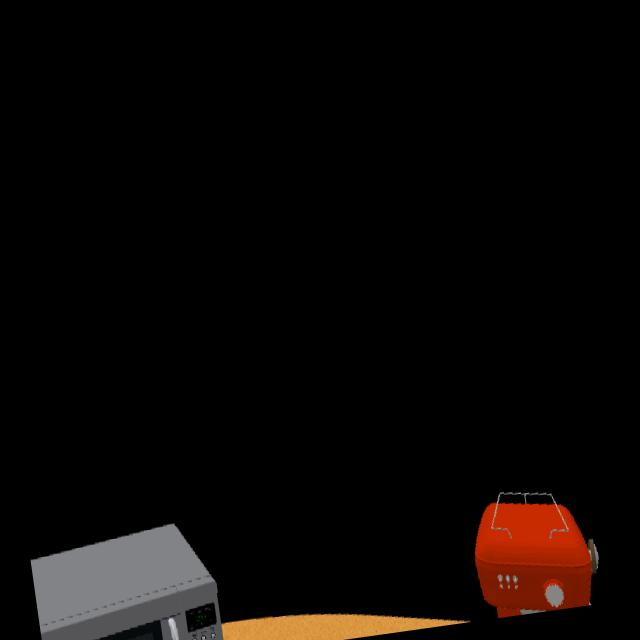countertop: (221, 614, 463, 640)
microwave: (31, 524, 224, 640)
